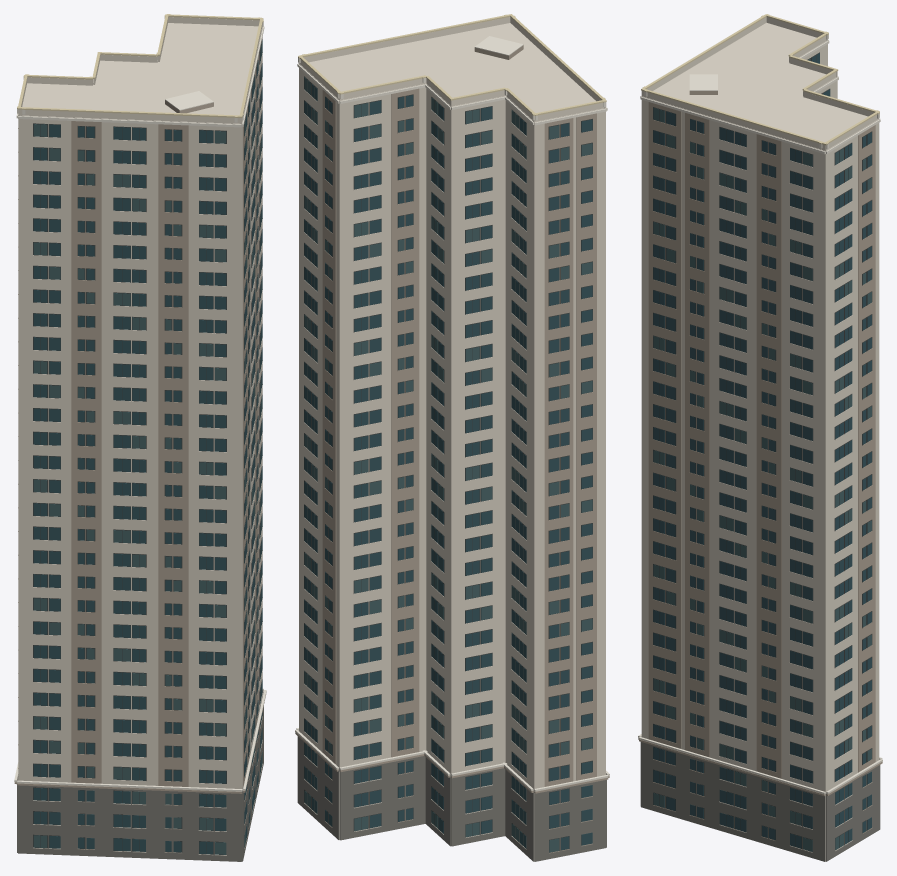
The model's file is bespoke-raemian-prestige-102.glb.
3 renders of one model, left to right at view 1: azimuth 30°, elevation 25°; view 2: azimuth 150°, elevation 25°; view 3: azimuth 270°, elevation 25°, orthographic. The views are drawn at different scales.
Parts seen in each view (by area): view 1: Prestige_warm_ivory_rendered_wall007, Prestige_recessed_blue_green_window007, Prestige_wide_taupe_pilasters007, Prestige_dark_bronze_thin_window_frame007, Prestige_dark_brown_grey_stone_base007, Prestige_muted_green_window_pair007, Prestige_pale_limestone_band007, Prestige_cream_gold_crown_coping007; view 2: Prestige_warm_ivory_rendered_wall007, Prestige_wide_taupe_pilasters007, Prestige_recessed_blue_green_window007, Prestige_dark_bronze_thin_window_frame007, Prestige_dark_brown_grey_stone_base007, Prestige_muted_green_window_pair007, Prestige_pale_limestone_band007, Prestige_cream_gold_crown_coping007; view 3: Prestige_warm_ivory_rendered_wall007, Prestige_wide_taupe_pilasters007, Prestige_recessed_blue_green_window007, Prestige_dark_bronze_thin_window_frame007, Prestige_dark_brown_grey_stone_base007, Prestige_muted_green_window_pair007, Prestige_pale_limestone_band007, Prestige_cream_gold_crown_coping007.
Boxes of the visible parts, bbox=[...] form: Prestige_warm_ivory_rendered_wall007: bbox=[18, 17, 262, 855]; Prestige_recessed_blue_green_window007: bbox=[33, 46, 262, 854]; Prestige_wide_taupe_pilasters007: bbox=[14, 56, 266, 853]; Prestige_dark_bronze_thin_window_frame007: bbox=[33, 39, 262, 854]; Prestige_dark_brown_grey_stone_base007: bbox=[17, 692, 263, 861]; Prestige_muted_green_window_pair007: bbox=[33, 40, 262, 854]; Prestige_pale_limestone_band007: bbox=[14, 17, 266, 791]; Prestige_cream_gold_crown_coping007: bbox=[17, 14, 263, 117]; Prestige_warm_ivory_rendered_wall007: bbox=[299, 17, 605, 861]; Prestige_wide_taupe_pilasters007: bbox=[295, 45, 609, 853]; Prestige_recessed_blue_green_window007: bbox=[304, 84, 592, 850]; Prestige_dark_bronze_thin_window_frame007: bbox=[304, 76, 592, 852]; Prestige_dark_brown_grey_stone_base007: bbox=[297, 736, 606, 861]; Prestige_muted_green_window_pair007: bbox=[304, 77, 592, 852]; Prestige_pale_limestone_band007: bbox=[295, 36, 609, 791]; Prestige_cream_gold_crown_coping007: bbox=[298, 14, 606, 115]; Prestige_warm_ivory_rendered_wall007: bbox=[641, 17, 879, 861]; Prestige_wide_taupe_pilasters007: bbox=[638, 91, 882, 840]; Prestige_recessed_blue_green_window007: bbox=[653, 53, 871, 848]; Prestige_dark_bronze_thin_window_frame007: bbox=[653, 52, 872, 852]; Prestige_dark_brown_grey_stone_base007: bbox=[640, 742, 880, 861]; Prestige_muted_green_window_pair007: bbox=[653, 59, 871, 851]; Prestige_pale_limestone_band007: bbox=[638, 34, 882, 794]; Prestige_cream_gold_crown_coping007: bbox=[641, 14, 879, 145].
Size of the model in its own units: 34.71 by 87.7 by 27.11.
